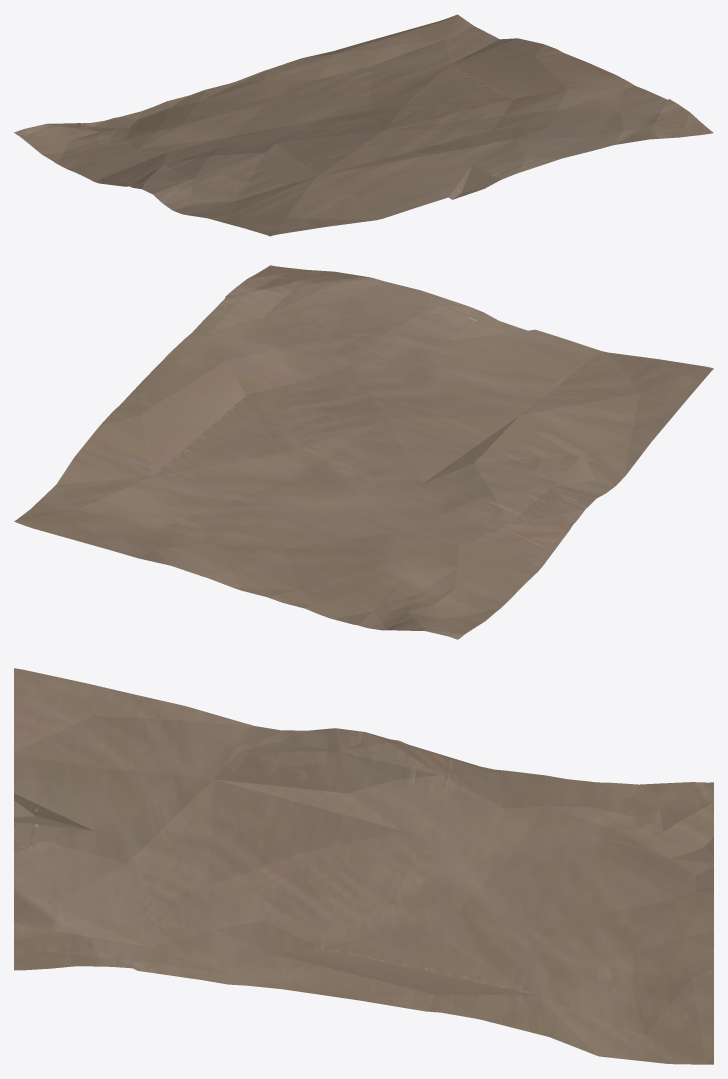
3 views of the same model, one above another, from view 1: azimuth 30°, elevation 25°; view 2: azimuth 150°, elevation 25°; view 3: azimuth 270°, elevation 25° (orthographic). The views are drawn at different scales.
Bounding box in the file's own units: 2.09 × 0.4571 × 2.09.
Materials: 3 (3 with a texture image).
